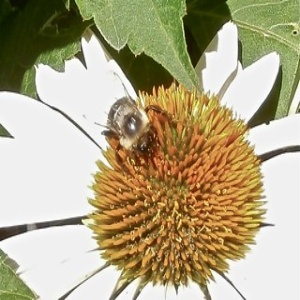bee: (108, 84, 159, 159)
